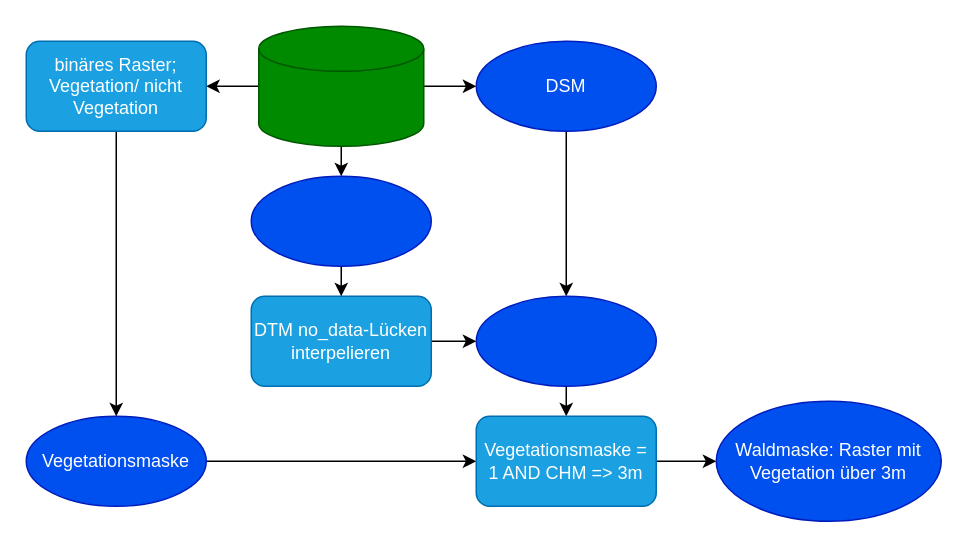
This 968x548 diagram has some shape labels left out. Each missing label, with the centre of its shape:
"CHM" belongs at pixel 565 340.
"DTM" belongs at pixel 340 220.
"swissSURFACE3D" belongs at pixel 340 85.
